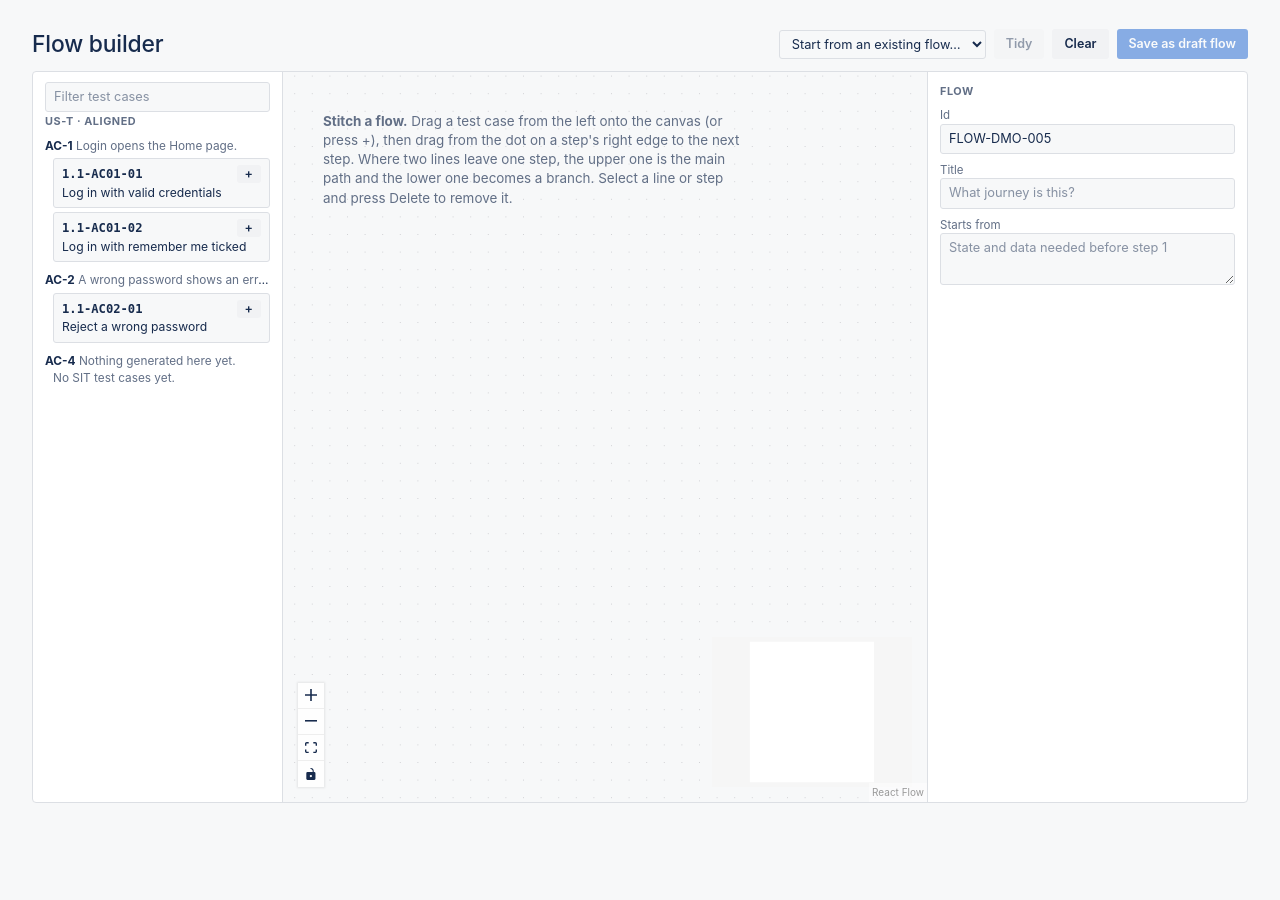
Test: FlowBuilderPage › saves the stitched test case with the criterion it covers
This screenshot has width=1280, height=900.
Click the button named "Add 1.1-AC01-02".
click(249, 228)  # box [237, 219, 261, 237]
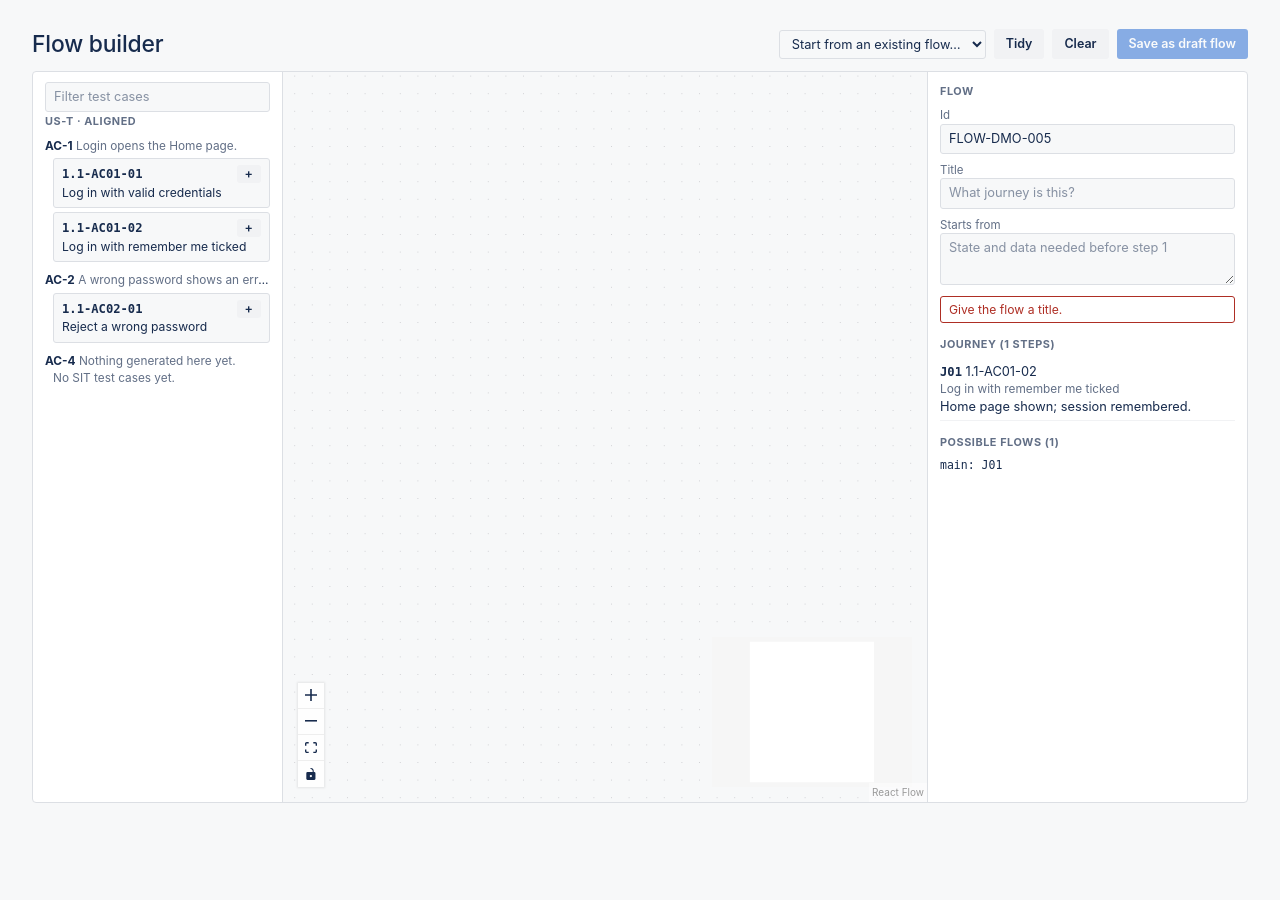
Type "Login" into the field with placeholder "What journey is this?".
click(1088, 194); type("Login")  # box [940, 178, 1235, 209]
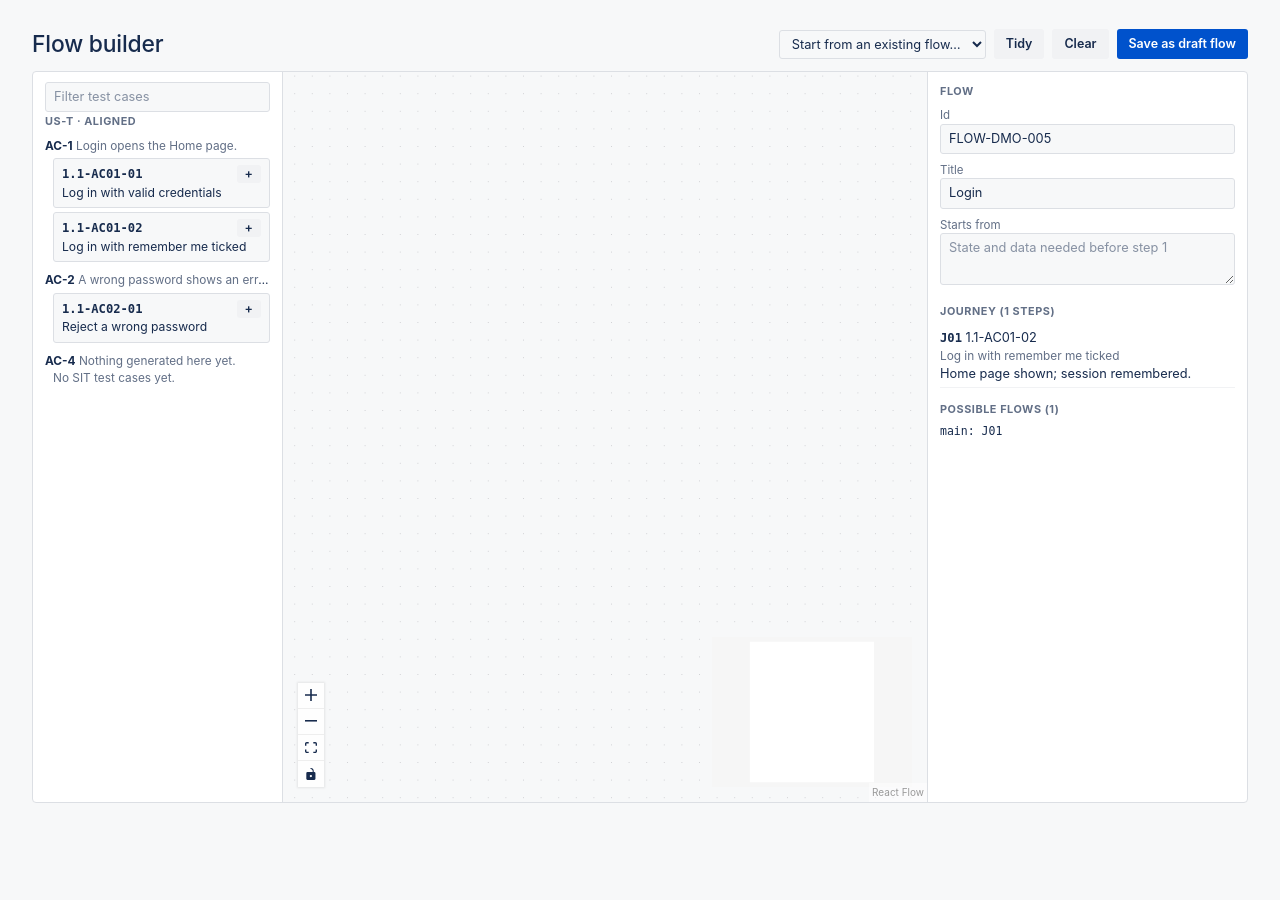
Now the button "Save as draft flow" is enabled
Click the button "Save as draft flow".
click(1182, 44)  # box [1116, 29, 1248, 59]
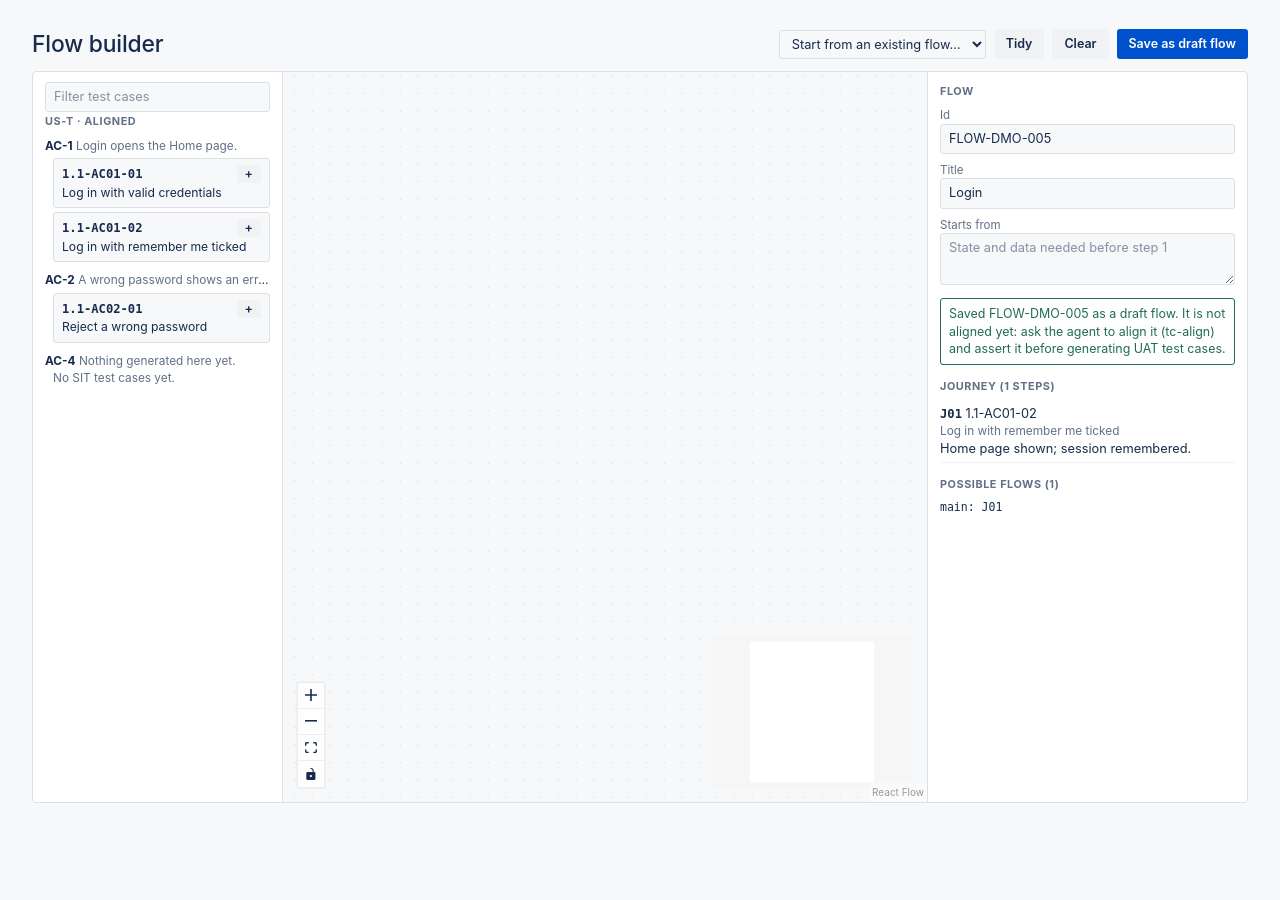
Now the text "Saved FLOW-DMO-005 as a draft flow" is shown, box [940, 298, 1235, 365]
